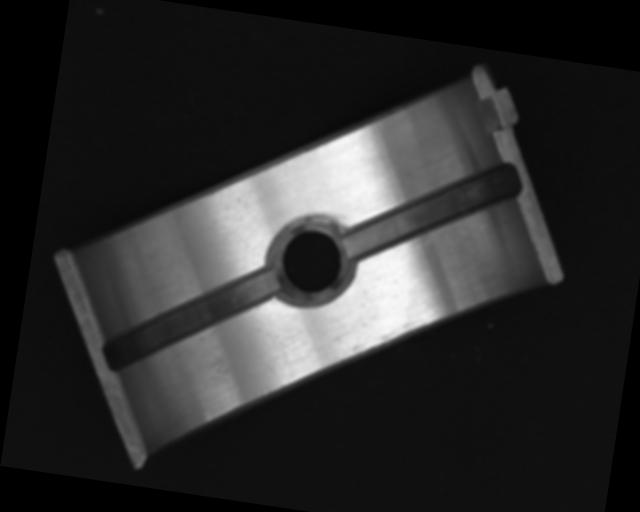gap: (100, 247, 284, 391), (343, 141, 522, 282)
hole: (266, 215, 355, 308)
